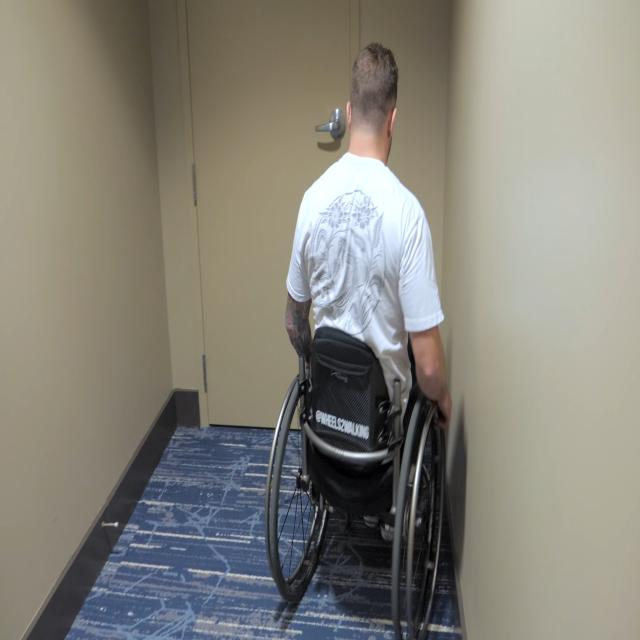wheelchairs: (264, 320, 449, 640)
